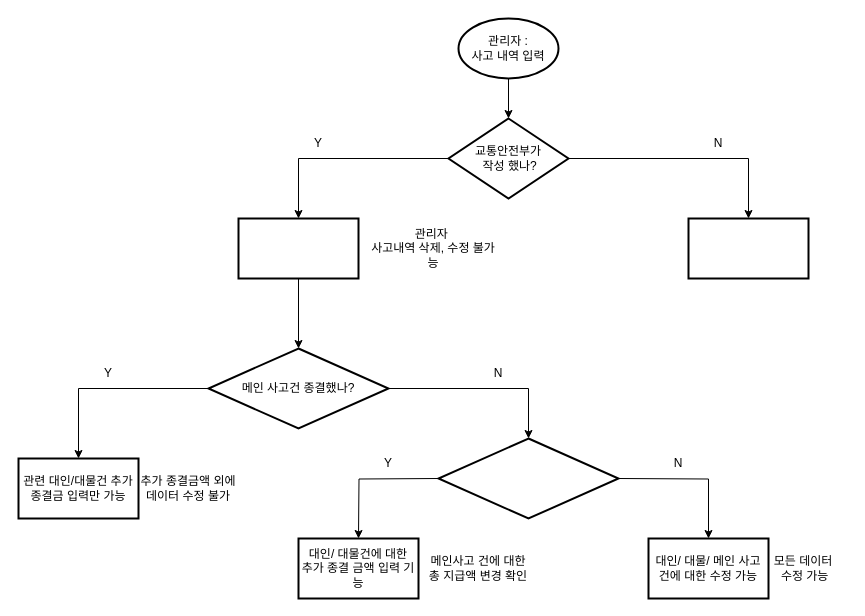
This 865x616 diagram has some shape labels left out. The shapes that lost their labels are listed below. From the top down, each one's box as (x1, y1, x2, y2) in pixels, then its label:
(237, 217, 359, 279): 교통안전부 : 사고 내역에 대한 정보 입력 완료
(687, 217, 809, 279): 관리자 사고내역 삭제, 수정 가능
(437, 437, 619, 519): 대인/ 대물건 종결했나?
